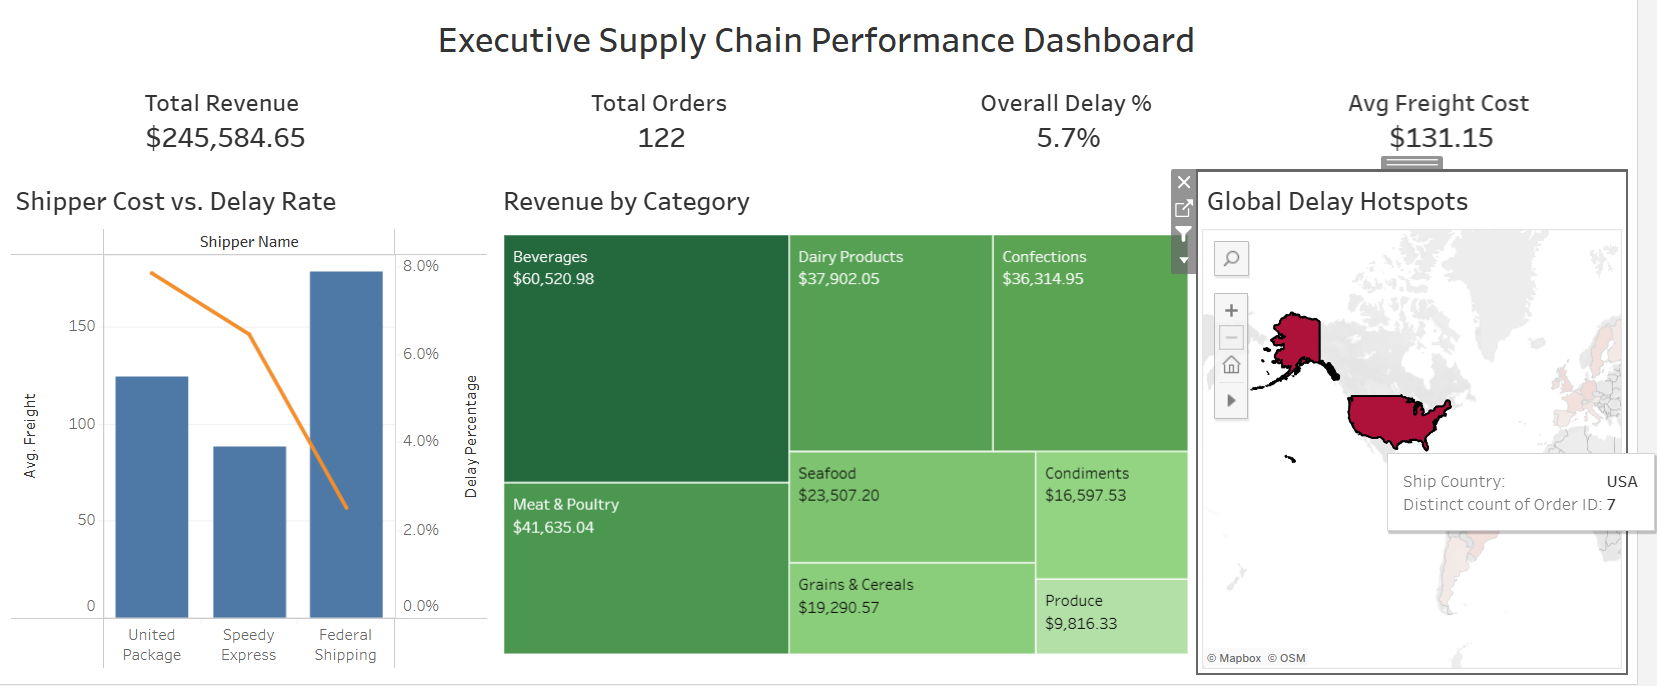

This screenshot's page, from the dashboard's own definition file:
{"tool":"tableau","page":{"name":"Final Dashboard","canvas":[1000,1000],"units":"permille","ordinal":0},"visuals":[{"type":"title","box":[6.1,14.6,987.8,84.1]},{"type":"worksheet","title":"KPI - Revenue","mark":"Automatic","box":[6.1,98.7,266.4,149.9]},{"type":"worksheet","title":"KPI - Orders","mark":"Automatic","box":[272.5,98.7,266.5,149.9]},{"type":"worksheet","title":"KPI - Delay Rate","mark":"Automatic","box":[539.1,98.7,227.7,149.9]},{"type":"worksheet","title":"KPI - Freight","mark":"Automatic","box":[766.8,98.7,227.1,149.9]},{"type":"worksheet","title":"Chart - Shipper","mark":"Automatic","rows":["freight","Calculation_0014625329938445"],"cols":["shipperName"],"box":[6.1,248.6,297,736.8]},{"type":"worksheet","title":"Chart - Treemap","mark":"Square","box":[303.1,248.6,428.8,736.8]},{"type":"worksheet","title":"Chart - Map","mark":"Multipolygon","box":[731.9,248.6,262,736.8]}]}

Visuals, with their boxes on the dashboard's canvas, which has no fixed pixel size, in thousandths of its width and height (x1, y1, x2, y2). These are canvas units, not pixel positions in the 1657x686 screenshot, which may show the page scaled, cropped or inside an application window:
title: {"x1": 6, "y1": 15, "x2": 994, "y2": 99}
"KPI - Revenue" worksheet: {"x1": 6, "y1": 99, "x2": 272, "y2": 249}
"KPI - Orders" worksheet: {"x1": 272, "y1": 99, "x2": 539, "y2": 249}
"KPI - Delay Rate" worksheet: {"x1": 539, "y1": 99, "x2": 767, "y2": 249}
"KPI - Freight" worksheet: {"x1": 767, "y1": 99, "x2": 994, "y2": 249}
"Chart - Shipper" worksheet: {"x1": 6, "y1": 249, "x2": 303, "y2": 985}
"Chart - Treemap" worksheet (Square marks): {"x1": 303, "y1": 249, "x2": 732, "y2": 985}
"Chart - Map" worksheet (Multipolygon marks): {"x1": 732, "y1": 249, "x2": 994, "y2": 985}
